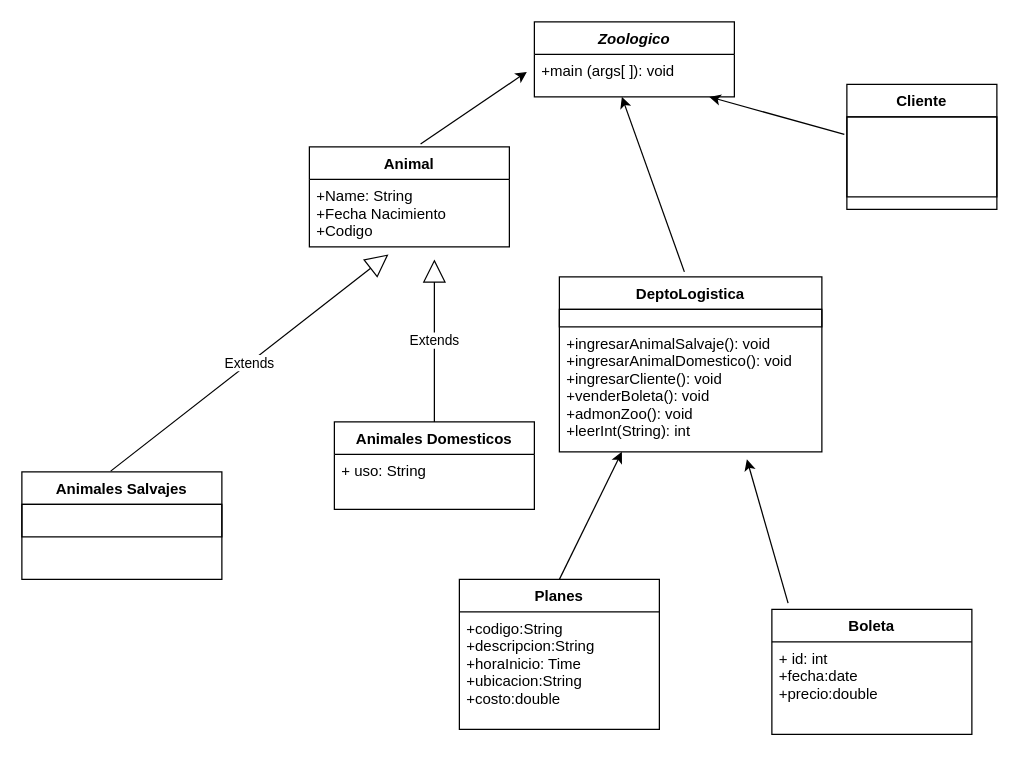
This 1019x760 diagram has some shape labels left out. Here are the shapes that lost their labels. From the top down, the centre of each, then its label:
At (921,156): "+id: Int +name:String +age: Int".
At (121,520): "+ nivelPeligrosidad: String".
